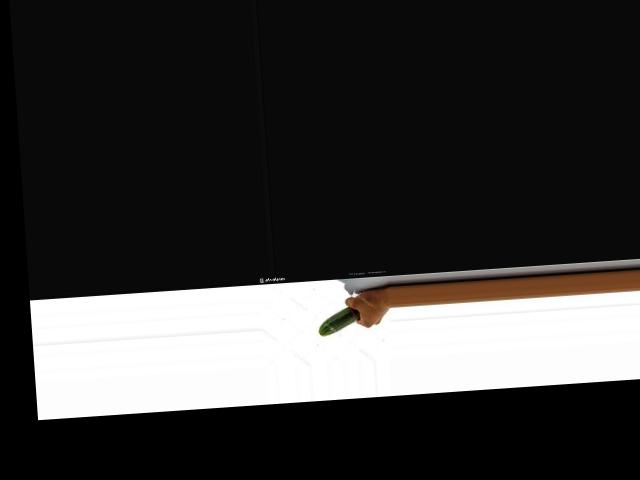cucumber: (317, 306, 361, 336)
